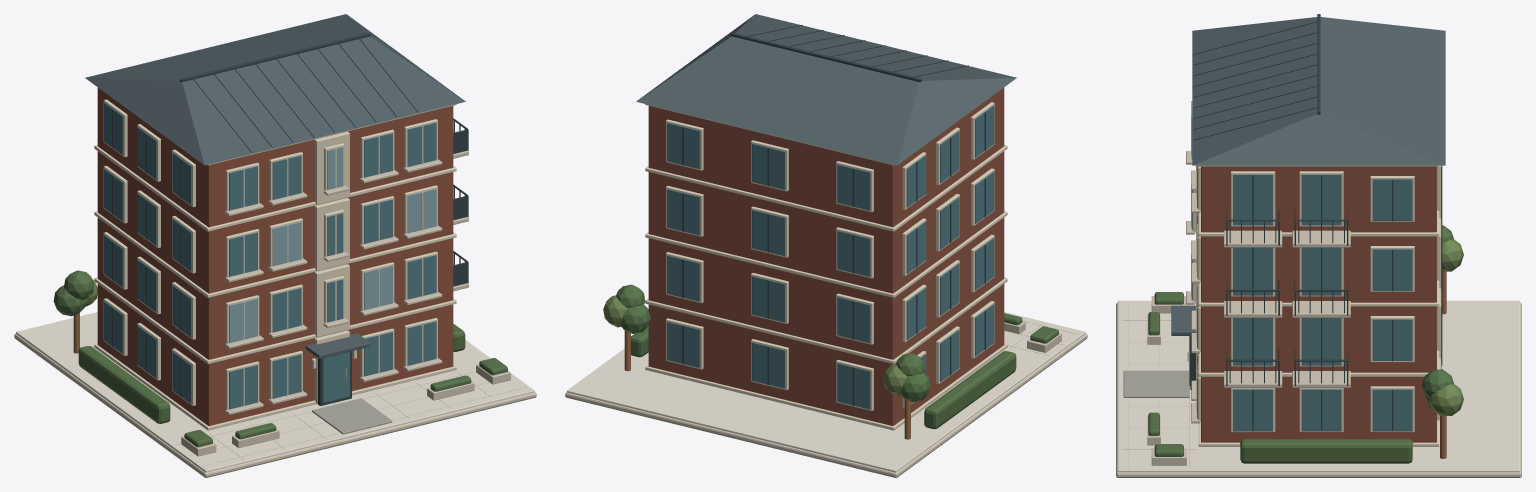
File: mansion-a-4x4-4f.glb
The picture shows the model from 3 angles, left to right: view 1: azimuth 30°, elevation 25°; view 2: azimuth 150°, elevation 25°; view 3: azimuth 270°, elevation 25°; orthographic projection. The views are drawn at different scales.
Parts seen in each view (by area): view 1: Building_FourStoreys, Roof_UnoccupiedHip, Lot_Top, Lot_4x4, BoundaryHedge, FloorBand_1, FloorBand_3, FloorBand_2, Entry_Path, FloorBand_0, StairCore.001, StairCore.003 (+37 smaller); view 2: Building_FourStoreys, Roof_UnoccupiedHip, Lot_Top, Lot_4x4, BoundaryHedge, FloorBand_2, FloorBand_3, FloorBand_1, FloorBand_0, RearGlass_F1.001, RearGlass_F1.002, RearGlass_F2 (+23 smaller); view 3: Roof_UnoccupiedHip, Building_FourStoreys, Lot_Top, BoundaryHedge.001, Lot_4x4, SideGlass_F4.001, SideGlass_F4, SideGlass_F3.001, SideGlass_F3, SideGlass_F2.001, Entry_Path, SideGlass_F2 (+27 smaller).
Boxes of the visible parts, bbox=[...] form: Building_FourStoreys: bbox=[97, 87, 453, 425]; Roof_UnoccupiedHip: bbox=[85, 14, 465, 165]; Lot_Top: bbox=[16, 312, 534, 472]; Lot_4x4: bbox=[14, 333, 536, 477]; BoundaryHedge: bbox=[78, 346, 170, 423]; FloorBand_1: bbox=[94, 277, 456, 364]; FloorBand_3: bbox=[94, 145, 456, 231]; FloorBand_2: bbox=[94, 211, 456, 297]; Entry_Path: bbox=[312, 398, 392, 434]; FloorBand_0: bbox=[94, 343, 456, 430]; StairCore.001: bbox=[314, 264, 349, 337]; StairCore.003: bbox=[314, 131, 349, 204]; Building_FourStoreys: bbox=[648, 87, 1004, 425]; Roof_UnoccupiedHip: bbox=[636, 14, 1016, 165]; Lot_Top: bbox=[567, 312, 1085, 472]; Lot_4x4: bbox=[565, 333, 1087, 477]; BoundaryHedge: bbox=[924, 351, 1016, 429]; FloorBand_2: bbox=[645, 211, 1007, 297]; FloorBand_3: bbox=[645, 145, 1007, 231]; FloorBand_1: bbox=[645, 277, 1007, 363]; FloorBand_0: bbox=[645, 343, 1007, 430]; RearGlass_F1.001: bbox=[752, 342, 785, 388]; RearGlass_F1.002: bbox=[667, 321, 700, 367]; RearGlass_F2: bbox=[837, 297, 870, 342]; Roof_UnoccupiedHip: bbox=[1192, 17, 1445, 165]; Building_FourStoreys: bbox=[1201, 166, 1436, 442]; Lot_Top: bbox=[1118, 300, 1519, 472]; BoundaryHedge.001: bbox=[1240, 439, 1412, 463]; Lot_4x4: bbox=[1116, 302, 1521, 477]; SideGlass_F4.001: bbox=[1301, 174, 1341, 225]; SideGlass_F4: bbox=[1233, 174, 1272, 225]; SideGlass_F3.001: bbox=[1301, 247, 1341, 295]; SideGlass_F3: bbox=[1233, 247, 1272, 295]; SideGlass_F2.001: bbox=[1301, 318, 1341, 365]; Entry_Path: bbox=[1123, 370, 1189, 397]; SideGlass_F2: bbox=[1233, 318, 1272, 365].
Bounding box in the file's own units: 16 × 14.37 × 16.
